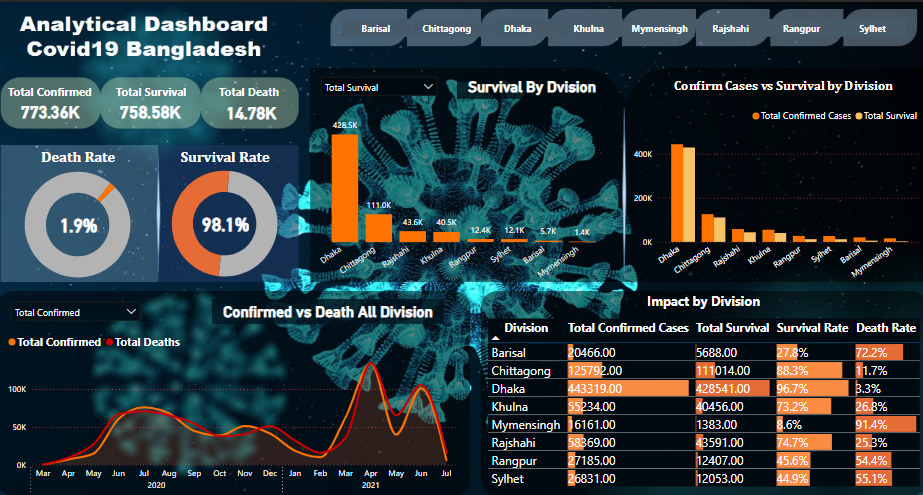

The page's visual inventory and layout, read from the dashboard file:
{"tool":"powerbi","page":{"name":"Page 1","canvas":[1340,720],"ordinal":0},"visuals":[{"type":"card","fields":{"Values":["measurements.Total Confirmed Cases"]},"box":[26,127.2,101.2,62.2],"z":0},{"type":"columnChart","fields":{"Y":["measurements.Total Survival"],"Category":["data.Division"]},"box":[458.3,153.3,432.3,268.9],"z":1000},{"type":"slicer","fields":{"Values":["Switch Situation.Switch Situation"]},"box":[458.3,98.3,188,43.4],"z":2000},{"type":"lineChart","fields":{"Y":["measurements.Total Confirmed Cases"],"Category":["DateTable.months.Year","DateTable.months.Month"],"Y2":["measurements.Total Deaths"]},"box":[10.1,469.9,659.3,250.1],"z":3000},{"type":"slicer","fields":{"Values":["CvS By Time.CvS By Time"]},"box":[10.1,423.6,206.7,49.2],"z":4000},{"type":"card","fields":{"Values":["measurements.Bar Chart Caption"]},"box":[665.1,104.1,216.9,36.1],"z":5000},{"type":"card","fields":{"Values":["measurements.Line Chart Caption"]},"box":[310.8,429.4,335.4,36.1],"z":6000},{"type":"tableEx","fields":{"Values":["data.Division","measurements.Total Confirmed Cases","measurements.Total Survival","measurements.% survival","measurements.% death"]},"box":[704.1,452.5,636.1,267.5],"z":7000},{"type":"clusteredColumnChart","fields":{"Category":["data.Division"],"Y":["measurements.Total Confirmed Cases","measurements.Total Survival"]},"box":[915.2,144.6,425.1,277.6],"z":8000},{"type":"group","id":"g1","title":"Group 1","box":[228.4,220.2,201,201],"z":9000},{"type":"donutChart","fields":{"Y":["measurements.Total Confirmed Cases","measurements.Total Deaths"]},"box":[228.4,220.2,201.3,201.3],"z":10000,"group":"g1"},{"type":"group","id":"g2","title":"Group 2","box":[15.9,221.7,201,201],"z":10000},{"type":"slicer","fields":{"Values":["data.Division"]},"box":[471.3,17.3,868.9,40.5],"z":11000},{"type":"textbox","box":[1.4,114.2,150.4,33.3],"z":12000},{"type":"card","fields":{"Values":["measurements.% survival"]},"box":[290.1,286.3,79.3,69.1],"z":12000,"group":"g1"},{"type":"card","fields":{"Values":["measurements.Total Survival"]},"box":[173.5,133,101.2,52],"z":13000},{"type":"donutChart","fields":{"Y":["measurements.Total Confirmed Cases","measurements.Total Deaths"]},"box":[15.9,221.7,201.3,201.3],"z":13000,"group":"g3"},{"type":"textbox","box":[147.5,114.2,150.4,33.3],"z":14000},{"type":"card","fields":{"Values":["measurements.Death Rate"]},"box":[77.6,287.8,79.3,69.1],"z":14000,"group":"g3"},{"type":"card","fields":{"Values":["measurements.Total Deaths"]},"box":[316.6,127.2,101.2,62.2],"z":15000},{"type":"textbox","box":[306.5,114.2,115.7,33.3],"z":16000},{"type":"group","id":"g3","title":"Group 3","box":[15.9,221.7,201,201],"z":16001,"group":"g2"},{"type":"textbox","box":[43.4,206.7,147.5,34.7],"z":17000},{"type":"textbox","box":[255.9,206.7,147.5,34.7],"z":18000},{"type":"textbox","box":[906.5,414.9,229.9,37.6],"z":19000},{"type":"textbox","box":[964.3,104.1,345.5,37.6],"z":20000}]}

Visuals, with their boxes in screenshot pixels (x1, y1, x2, y2), scaled from the page's 1340x720 canvas onto the 923x495 screenshot:
card - measurements.Total Confirmed Cases: <box>18,87,88,130</box>
columnChart - measurements.Total Survival x data.Division: <box>316,105,613,290</box>
slicer - Switch Situation.Switch Situation: <box>316,68,445,97</box>
lineChart - measurements.Total Confirmed Cases x DateTable.months.Year: <box>7,323,461,494</box>
slicer - CvS By Time.CvS By Time: <box>7,291,149,325</box>
card - measurements.Bar Chart Caption: <box>458,72,608,96</box>
card - measurements.Line Chart Caption: <box>214,295,445,320</box>
tableEx - data.Division x measurements.Total Confirmed Cases: <box>485,311,922,494</box>
clusteredColumnChart - data.Division x measurements.Total Confirmed Cases: <box>630,99,922,290</box>
"Group 1" group: <box>157,151,296,290</box>
donutChart - measurements.Total Confirmed Cases x measurements.Total Deaths: <box>157,151,296,290</box>
"Group 2" group: <box>11,152,149,291</box>
slicer - data.Division: <box>325,12,922,40</box>
textbox: <box>1,79,105,101</box>
card - measurements.% survival: <box>200,197,254,244</box>
card - measurements.Total Survival: <box>120,91,189,127</box>
donutChart - measurements.Total Confirmed Cases x measurements.Total Deaths: <box>11,152,150,291</box>
textbox: <box>102,79,205,101</box>
card - measurements.Death Rate: <box>53,198,108,245</box>
card - measurements.Total Deaths: <box>218,87,288,130</box>
textbox: <box>211,79,291,101</box>
"Group 3" group: <box>11,152,149,291</box>
textbox: <box>30,142,131,166</box>
textbox: <box>176,142,278,166</box>
textbox: <box>624,285,783,311</box>
textbox: <box>664,72,902,97</box>
